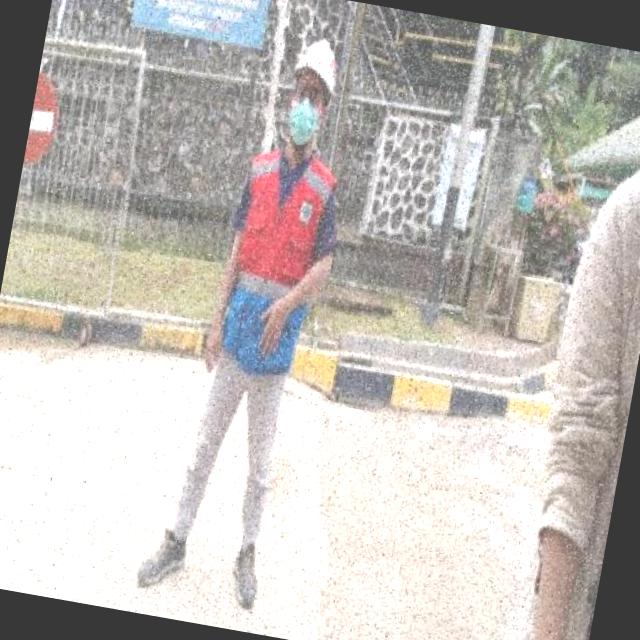boots: (134, 519, 192, 591), (222, 536, 266, 608)
helmet: (288, 27, 346, 102)
no-boots: (258, 10, 368, 184)
no-gloves: (239, 254, 333, 395), (175, 242, 262, 388)
vest: (208, 138, 340, 382)
